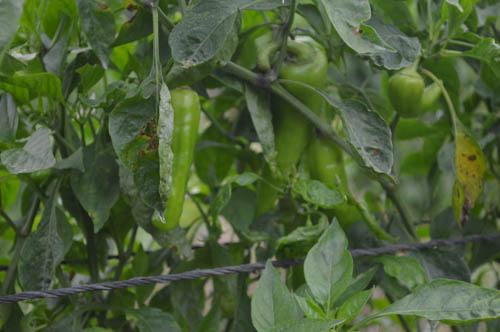ChiliPepper: (258, 39, 325, 221), (150, 88, 202, 238), (312, 129, 360, 223), (386, 72, 444, 122)
